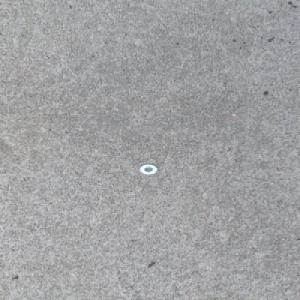Washer: (138, 163, 159, 175)
